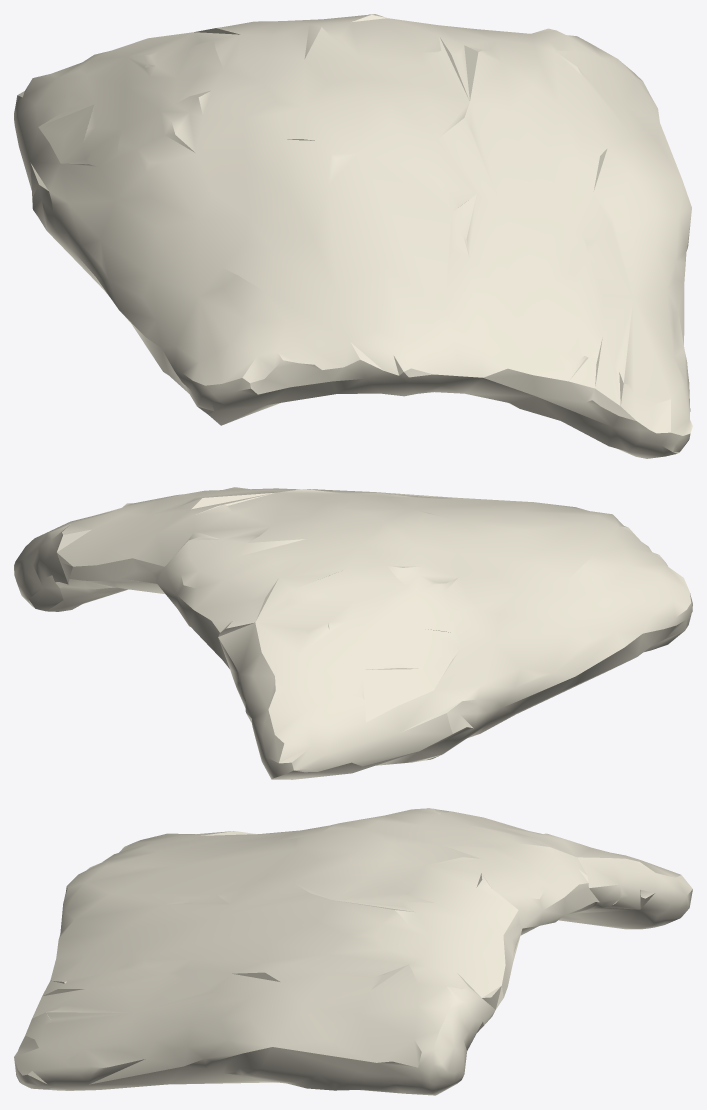
The model's file is fma44217_mm1388m.glb.
3 renders of one model, top to bottom at view 1: azimuth 30°, elevation 25°; view 2: azimuth 150°, elevation 25°; view 3: azimuth 270°, elevation 25°, orthographic. The views are drawn at different scales.
Visible parts, largest first — view 1: FMA44217_MM1388M; view 2: FMA44217_MM1388M; view 3: FMA44217_MM1388M.
Part boxes in pixels (x1,y1,x2,y2): FMA44217_MM1388M: [14, 14, 692, 458]; FMA44217_MM1388M: [14, 487, 692, 779]; FMA44217_MM1388M: [14, 808, 692, 1095].
Bounding box in the file's own units: 0.0193 × 0.00755 × 0.0227.
